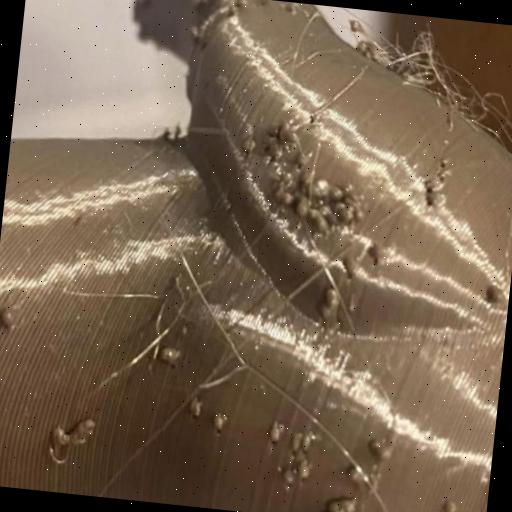blobs: (362, 436, 398, 466), (71, 418, 100, 450), (275, 118, 304, 146), (342, 462, 371, 489), (151, 344, 185, 366), (334, 253, 362, 279), (310, 304, 340, 328), (366, 242, 393, 268), (318, 285, 345, 310), (310, 210, 336, 235), (424, 172, 448, 197), (482, 284, 507, 308), (274, 169, 300, 192), (336, 204, 358, 231), (294, 198, 318, 222), (182, 396, 206, 420), (0, 303, 20, 331), (314, 176, 338, 198), (286, 432, 308, 456), (292, 458, 314, 482), (238, 138, 264, 158), (426, 192, 450, 213), (274, 192, 298, 212), (266, 420, 286, 444), (330, 496, 358, 512), (442, 495, 464, 512), (278, 466, 296, 484), (216, 414, 232, 433)
stringing: (396, 46, 452, 98), (449, 88, 505, 122), (366, 40, 404, 70)
